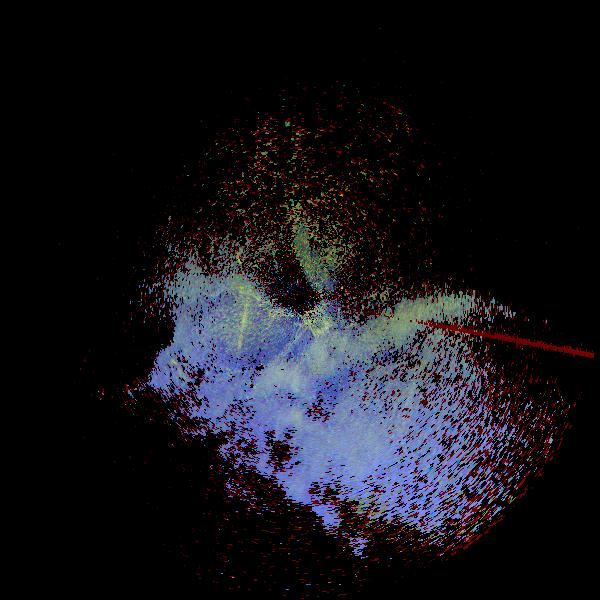roost: (153, 354, 189, 390)
